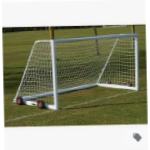goals: (13, 31, 142, 113)
